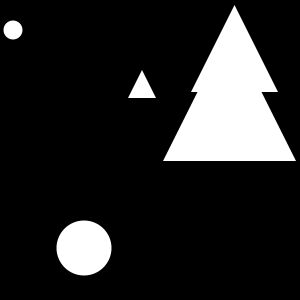rectangle: (57, 220, 112, 276), (3, 20, 23, 40)
triangle: (163, 28, 296, 161), (191, 5, 278, 92), (128, 70, 156, 98)
